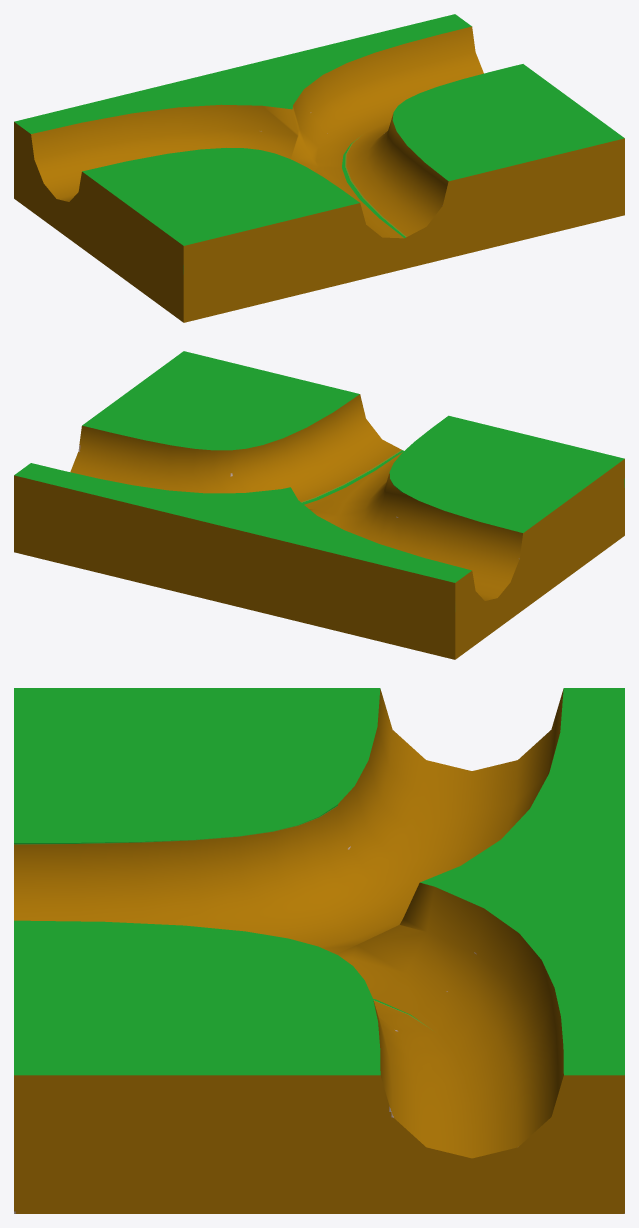
File: split.fbx
3 views of the same model, one above another, from view 1: azimuth 30°, elevation 25°; view 2: azimuth 150°, elevation 25°; view 3: azimuth 270°, elevation 25° (orthographic). The views are drawn at different scales.
Visible parts, largest first — view 1: Cube_1_1.041; view 2: Cube_1_1.041; view 3: Cube_1_1.041.
Boxes of the visible parts, bbox=[...] form: Cube_1_1.041: bbox=[14, 14, 624, 322]; Cube_1_1.041: bbox=[14, 351, 624, 659]; Cube_1_1.041: bbox=[14, 688, 624, 1213].
Bounding box in the file's own units: 600 × 100 × 400.
